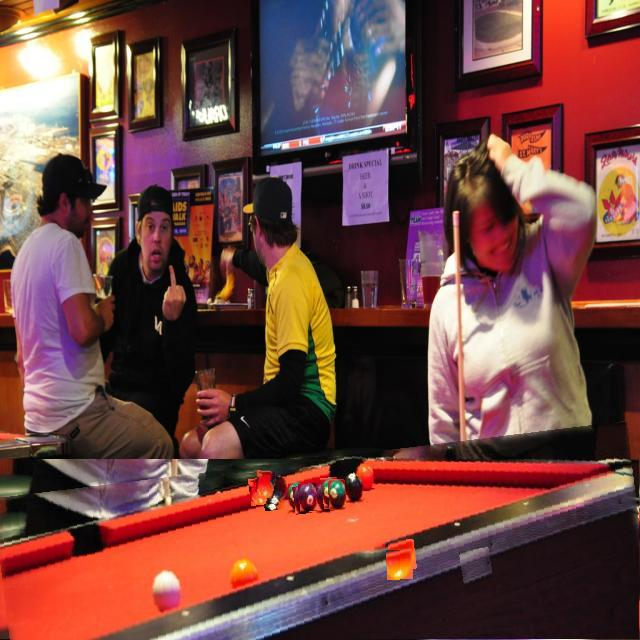Ball: (461, 548, 493, 594), (387, 550, 413, 580), (268, 476, 288, 506), (327, 479, 346, 510), (298, 484, 318, 512), (256, 471, 274, 498)
Billiard table: (0, 440, 640, 640)
